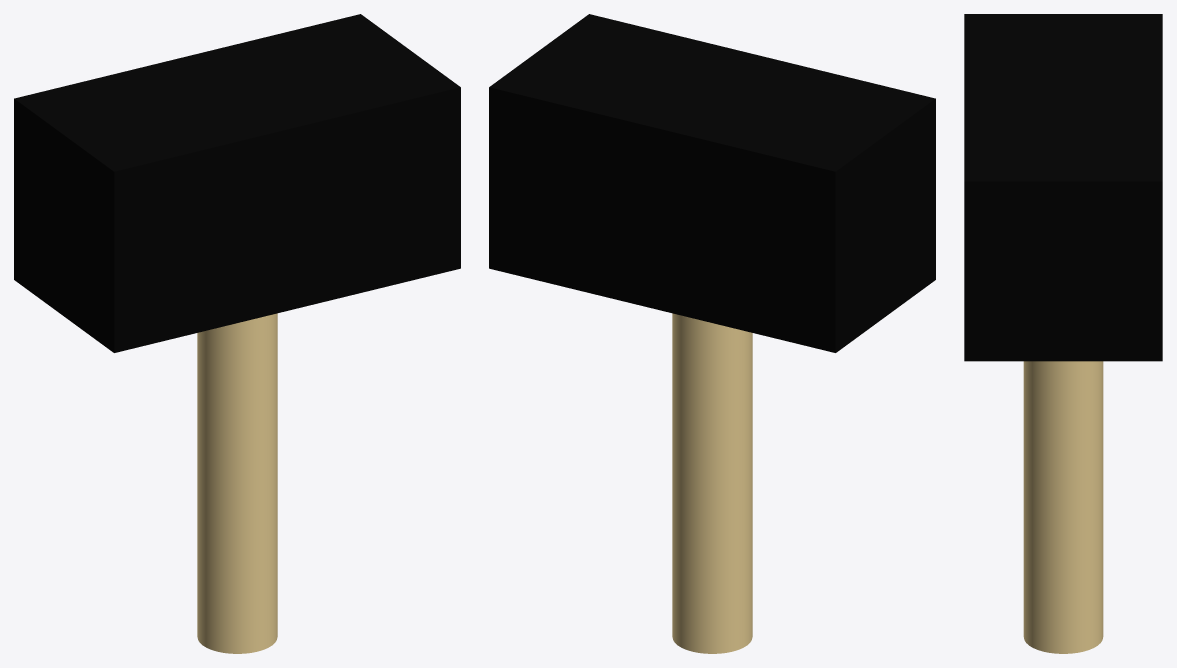
The model's file is hammer-model.glb.
3 renders of one model, left to right at view 1: azimuth 30°, elevation 25°; view 2: azimuth 150°, elevation 25°; view 3: azimuth 270°, elevation 25°, orthographic.
Bounding box in the file's own units: 1 × 1.5 × 0.5.
